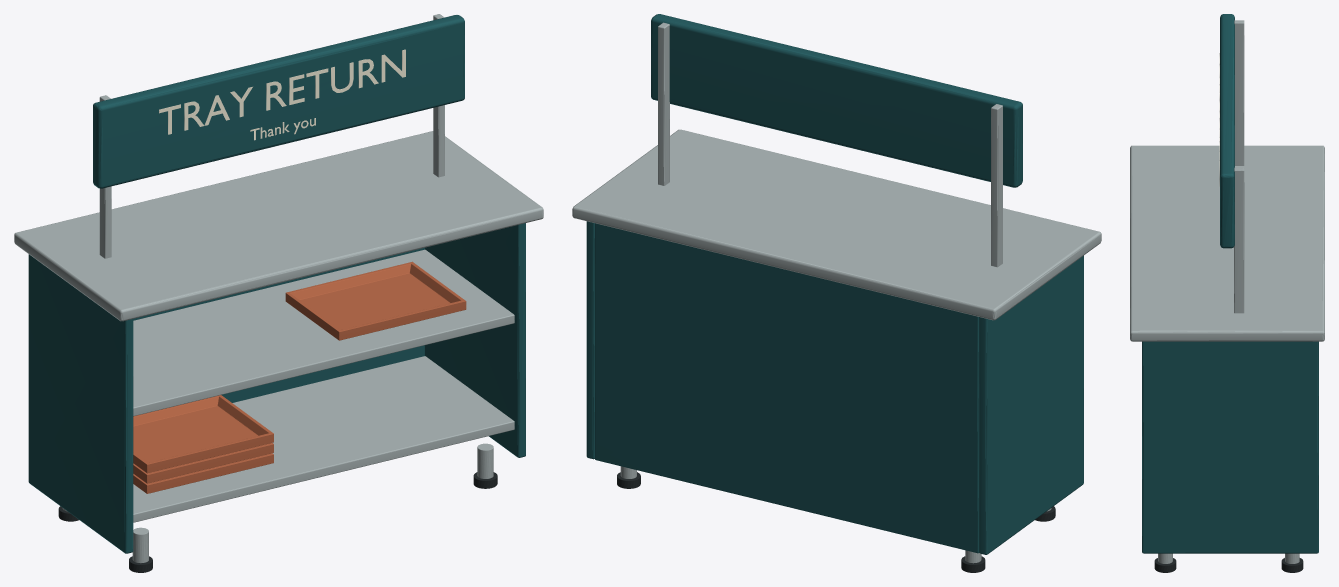
3 views of the same model, side by side, from view 1: azimuth 30°, elevation 25°; view 2: azimuth 150°, elevation 25°; view 3: azimuth 270°, elevation 25° (orthographic). The views are drawn at different scales.
Parts seen in each view (by area): view 1: Counter, SignFrame, UpperShelf, CabinetLeft, LowerShelf, CabinetRight, Tray04, Tray03, SignText, CabinetBack, Feet, Tray01 (+1 smaller); view 2: CabinetBack, Counter, SignFrame, CabinetLeft, CabinetRight, Feet; view 3: CabinetRight, Counter, SignFrame, Feet.
Part boxes in pixels (left/top/right/bottom): Counter: left=14, top=131, right=543, bottom=321; SignFrame: left=93, top=14, right=464, bottom=258; UpperShelf: left=133, top=249, right=514, bottom=416; CabinetLeft: left=28, top=254, right=133, bottom=553; LowerShelf: left=133, top=356, right=514, bottom=522; CabinetRight: left=425, top=223, right=525, bottom=457; Tray04: left=285, top=261, right=466, bottom=340; Tray03: left=133, top=395, right=273, bottom=473; SignText: left=159, top=49, right=405, bottom=140; CabinetBack: left=133, top=247, right=424, bottom=402; Feet: left=58, top=443, right=497, bottom=572; Tray01: left=133, top=453, right=273, bottom=493; CabinetBack: left=595, top=223, right=979, bottom=553; Counter: left=572, top=129, right=1101, bottom=320; SignFrame: left=651, top=14, right=1022, bottom=267; CabinetLeft: left=979, top=255, right=1083, bottom=554; CabinetRight: left=586, top=221, right=594, bottom=459; Feet: left=617, top=466, right=1055, bottom=572; CabinetRight: left=1142, top=341, right=1318, bottom=553; Counter: left=1130, top=145, right=1324, bottom=341; SignFrame: left=1220, top=14, right=1244, bottom=313; Feet: left=1154, top=553, right=1303, bottom=572.
Size of the model in its own units: 1.5 by 1.49 by 0.66.
